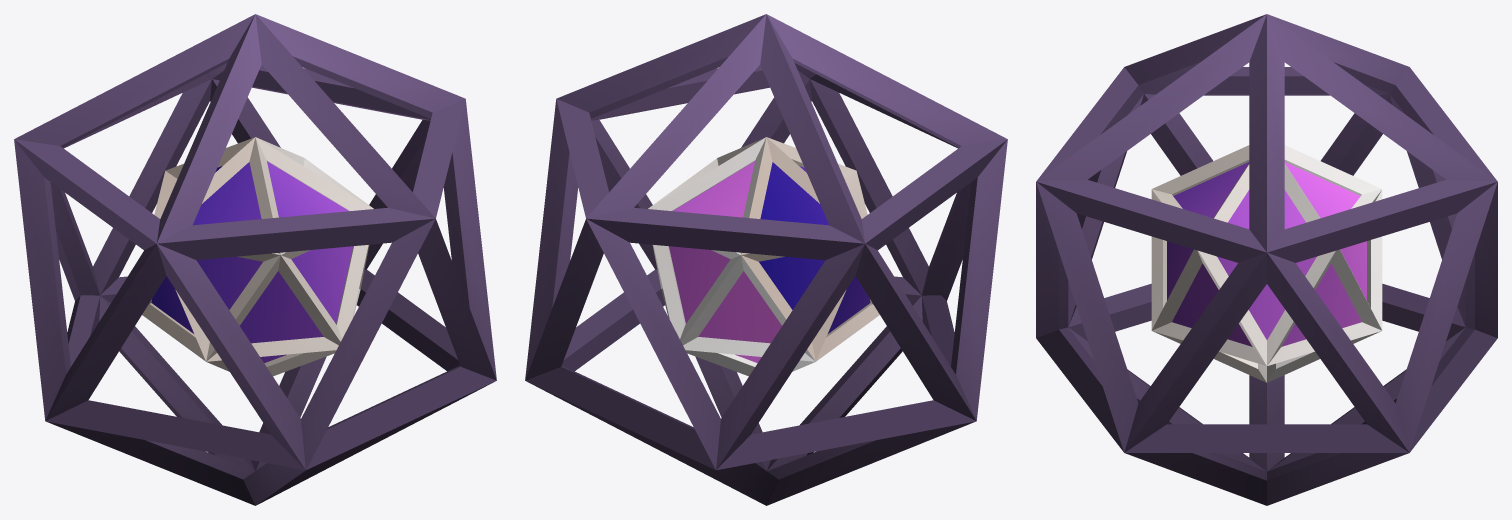
Rendered from Bomb.fbx.
3 renders of one model, left to right at view 1: azimuth 30°, elevation 25°; view 2: azimuth 150°, elevation 25°; view 3: azimuth 270°, elevation 25°, orthographic.
Parts seen in each view (by area): view 1: Bomb; view 2: Bomb; view 3: Bomb.
Part boxes in pixels (x1,y1,x2,y2): Bomb: (14,14,496,505); Bomb: (525,14,1007,505); Bomb: (1036,14,1497,505).
Bounding box in the file's own units: 1.44 × 1.37 × 1.61.
